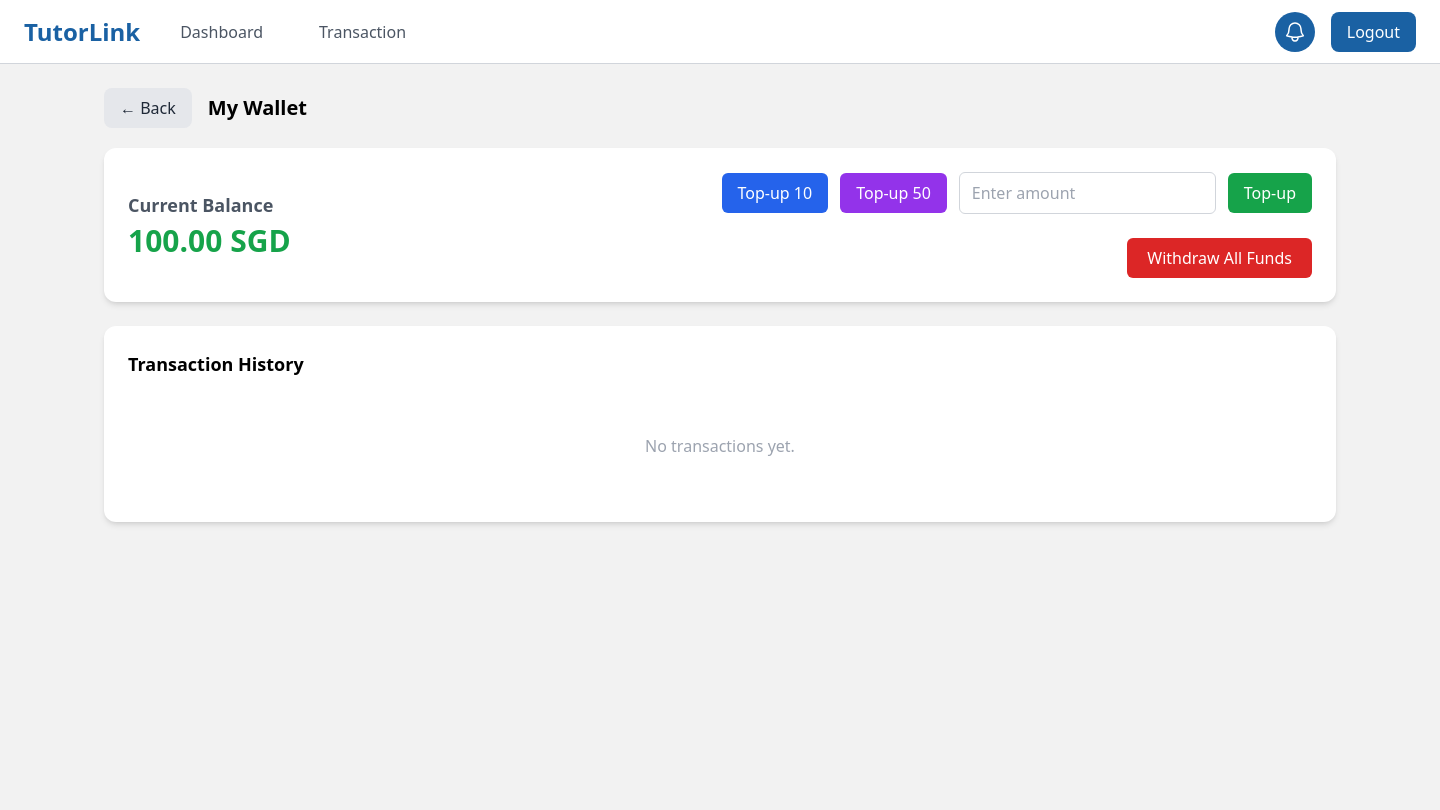
it: WalletPage › opens wallet PIN modal for withdraw
Click the button "Withdraw All Funds". click: (1220, 258)
box: x1=1127 y1=238 x2=1312 y2=278
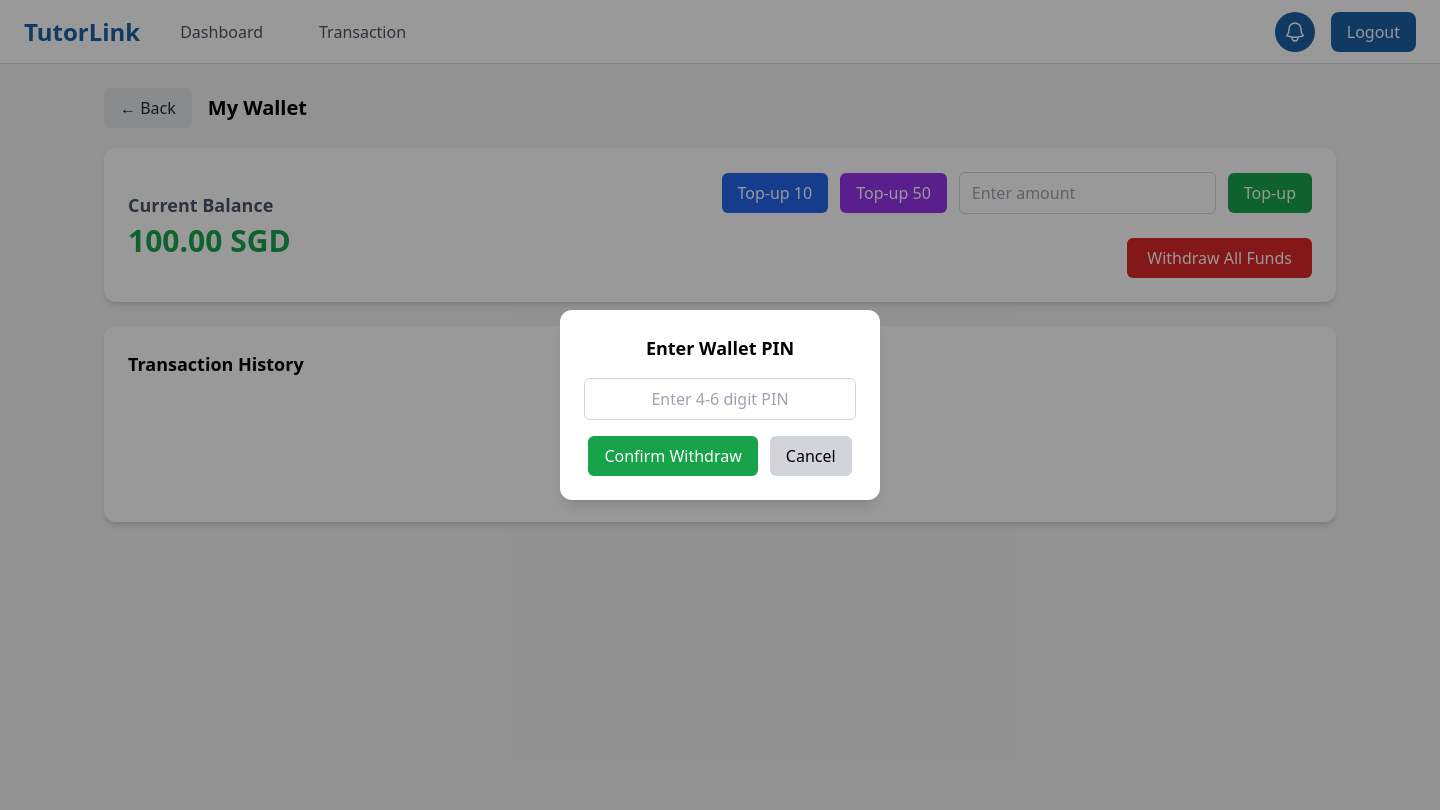
Now the heading "Enter Wallet PIN" is shown, box x1=646 y1=336 x2=794 y2=360
